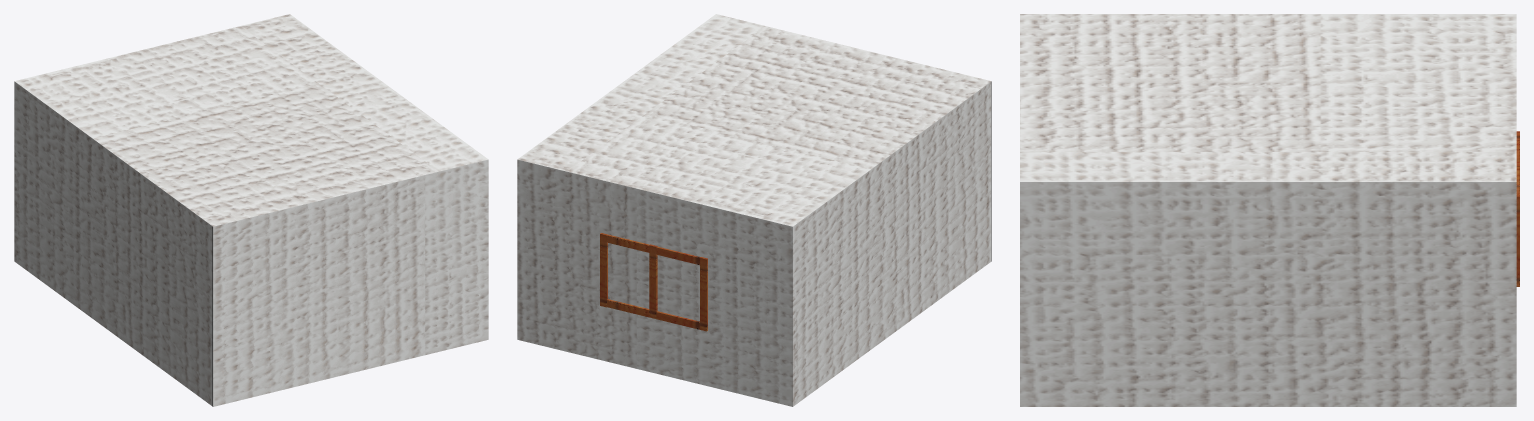
The model's file is Room.gltf.
3 views of the same model, side by side, from view 1: azimuth 30°, elevation 25°; view 2: azimuth 150°, elevation 25°; view 3: azimuth 270°, elevation 25° (orthographic). The views are drawn at different scales.
Visible parts, largest first — view 1: Cube; view 2: Cube, window; view 3: Cube, window.
Boxes of the visible parts, x1,y1,x2,y2 form: Cube: (14,14,488,406); Cube: (517,14,991,406); window: (600,233,707,331); Cube: (1020,14,1516,406); window: (1516,131,1519,286).
Bounding box in the file's own units: 160 × 100 × 201.
Materials: 3 (2 with a texture image).
